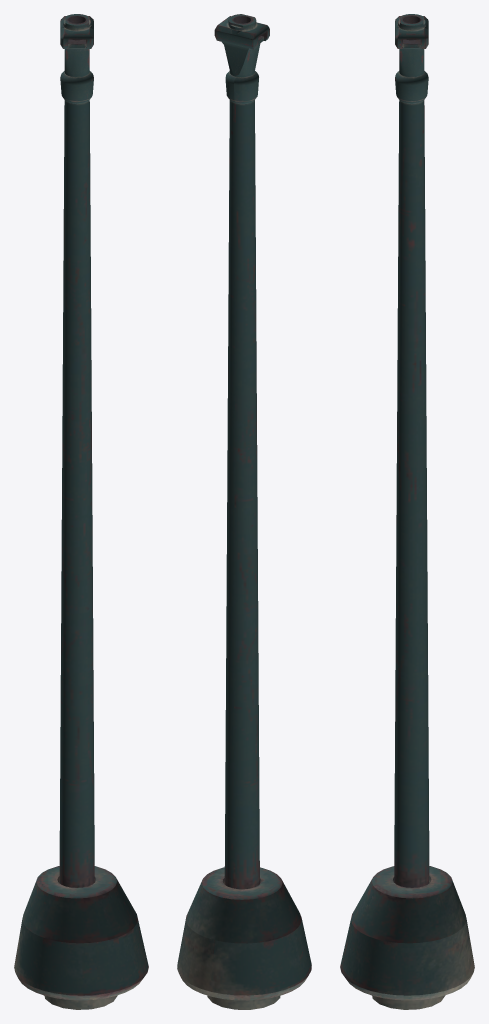
Rendered from Gun_01.glb.
3 views of the same model, side by side, from view 1: azimuth 90°, elevation 25°; view 2: azimuth 150°, elevation 25°; view 3: azimuth 270°, elevation 25° (orthographic).
Visible parts, largest first — view 1: set_0_group_0; view 2: set_0_group_0; view 3: set_0_group_0.
Boxes of the visible parts, x1=… form: set_0_group_0: x1=14, y1=14, x2=148, y2=1009; set_0_group_0: x1=177, y1=14, x2=311, y2=1009; set_0_group_0: x1=340, y1=14, x2=474, y2=1009.
Size of the model in its own units: 0.7684 by 6.13 by 0.7686.
Materials: 1 (1 with a texture image).
